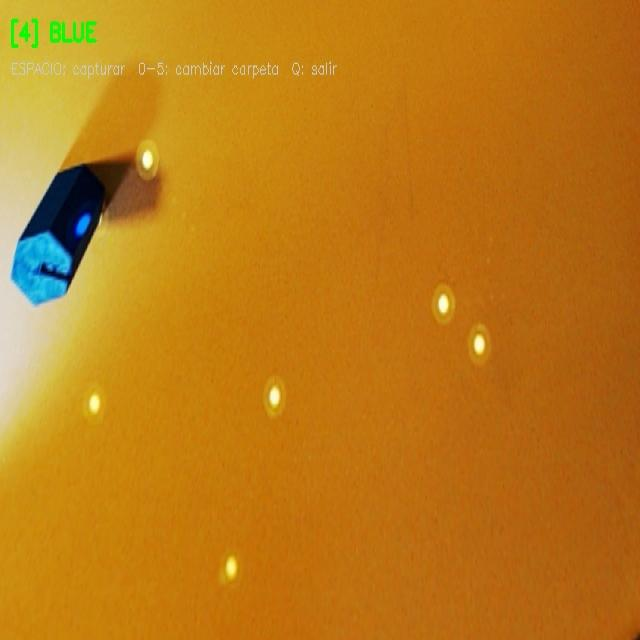blue: (11, 165, 104, 303)
